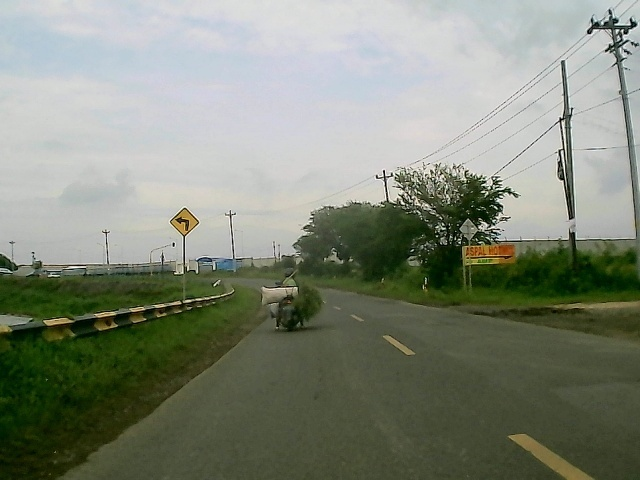Tikungan tajam ke kiri: (166, 206, 200, 238)
